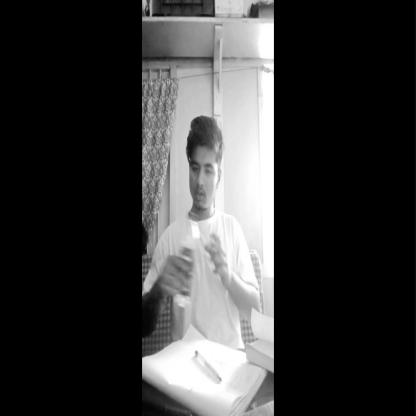Normal: (174, 111, 230, 212)
